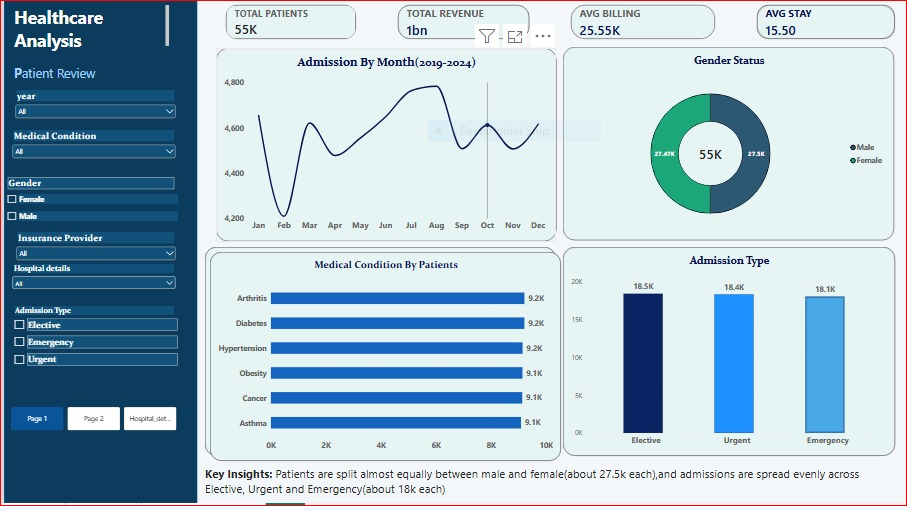

The dashboard page shown, as its layout file describes it:
{"tool":"powerbi","page":{"name":"Page 1","canvas":[1920,1080],"ordinal":0},"visuals":[{"type":"shape","box":[0,0,411.1,1080.6],"z":0},{"type":"slicer","fields":{"Values":["healthcare_dataset.Gender"]},"box":[0,387.1,369.9,112.7],"z":0,"group":"g1"},{"type":"textbox","box":[22.2,22.2,329.8,100.9],"z":1000},{"type":"slicer","fields":{"Values":["healthcare_dataset.Insurance Provider"]},"box":[21.3,503.9,348.7,63.8],"z":1000,"group":"g1"},{"type":"textbox","box":[22.2,147.7,329.8,54.2],"z":2000},{"type":"slicer","fields":{"Values":["healthcare_dataset.Hospital"]},"box":[12.8,571.9,357.2,87.2],"z":2000,"group":"g1"},{"type":"slicer","fields":{"Values":["healthcare_dataset.Medical Condition"]},"box":[12.8,287,357.2,61.7],"z":3000},{"type":"slicer","fields":{"Values":["healthcare_dataset.Admission Type"]},"box":[14.9,661.2,355,142.4],"z":3000,"group":"g1"},{"type":"group","id":"g1","title":"Group 1","box":[0,387.1,369.9,416.5],"z":4000},{"type":"slicer","fields":{"Values":["calender.year"]},"box":[19.1,202,350.8,72.3],"z":5000},{"type":"cardVisual","title":"TOTAL PATIENTS","fields":{"Data":["healthcare_dataset.total_revenue"]},"box":[837.6,21.3,278.5,72.3],"z":6000},{"type":"cardVisual","title":"AVG BILLING","fields":{"Data":["healthcare_dataset.avg_billing"]},"box":[1205.4,21.3,306.1,72.3],"z":7000},{"type":"cardVisual","title":"AVG_STAYS","fields":{"Data":["healthcare_dataset.avg_lengthstay"]},"box":[1600.9,21.3,293.4,72.3],"z":8000},{"type":"lineChart","title":"Admission By Month(2019-2024)","fields":{"Category":["calender.month"],"Y":["CountNonNull(healthcare_dataset.Admission Type)"]},"box":[450.5,113.2,723.7,411.1],"z":9000},{"type":"donutChart","title":"Gender Status","fields":{"Category":["healthcare_dataset.Gender"],"Y":["CountNonNull(healthcare_dataset.Gender)"]},"box":[1188.4,110.6,704,411.1],"z":10000},{"type":"clusteredBarChart","title":"Medical Condition By Patients","fields":{"Category":["healthcare_dataset.Medical Condition"],"Y":["CountNonNull(healthcare_dataset.Name)"]},"box":[427.3,535.7,746.2,444.3],"z":11000},{"type":"clusteredColumnChart","title":"Admission Type","fields":{"Category":["healthcare_dataset.Admission Type"],"Y":["healthcare_dataset.Total_patients"]},"box":[1188.4,535.7,705.8,444.3],"z":12000},{"type":"cardVisual","fields":{"Data":["healthcare_dataset.Total_patients"]},"box":[472,21.3,276.4,72.3],"z":13000},{"type":"pageNavigator","box":[15.1,876.9,352.8,50.4],"z":14000},{"type":"textbox","box":[427.3,1001.3,1466.9,78.7],"z":15000},{"type":"clusteredBarChart","title":"Medical Condition By Patients","fields":{"Category":["healthcare_dataset.Medical Condition"],"Y":["CountNonNull(healthcare_dataset.Name)"]},"box":[437.3,545.7,746.2,444.3],"z":16000}]}

Visuals, with their boxes in screenshot pixels (x1, y1, x2, y2), scaled from the page's 1920x1080 canvas onto the 907x506 screenshot:
shape: [x1=0, y1=0, x2=194, y2=505]
slicer - healthcare_dataset.Gender: [x1=0, y1=181, x2=175, y2=234]
textbox: [x1=10, y1=10, x2=166, y2=58]
slicer - healthcare_dataset.Insurance Provider: [x1=10, y1=236, x2=175, y2=266]
textbox: [x1=10, y1=69, x2=166, y2=95]
slicer - healthcare_dataset.Hospital: [x1=6, y1=268, x2=175, y2=309]
slicer - healthcare_dataset.Medical Condition: [x1=6, y1=134, x2=175, y2=163]
slicer - healthcare_dataset.Admission Type: [x1=7, y1=310, x2=175, y2=377]
"Group 1" group: [x1=0, y1=181, x2=175, y2=377]
slicer - calender.year: [x1=9, y1=95, x2=175, y2=129]
"TOTAL PATIENTS" cardVisual: [x1=396, y1=10, x2=527, y2=44]
"AVG BILLING" cardVisual: [x1=569, y1=10, x2=714, y2=44]
"AVG_STAYS" cardVisual: [x1=756, y1=10, x2=895, y2=44]
"Admission By Month(2019-2024)" lineChart: [x1=213, y1=53, x2=555, y2=246]
"Gender Status" donutChart: [x1=561, y1=52, x2=894, y2=244]
"Medical Condition By Patients" clusteredBarChart: [x1=202, y1=251, x2=554, y2=459]
"Admission Type" clusteredColumnChart: [x1=561, y1=251, x2=895, y2=459]
cardVisual - healthcare_dataset.Total_patients: [x1=223, y1=10, x2=354, y2=44]
pageNavigator: [x1=7, y1=411, x2=174, y2=434]
textbox: [x1=202, y1=469, x2=895, y2=505]
"Medical Condition By Patients" clusteredBarChart: [x1=207, y1=256, x2=559, y2=464]
